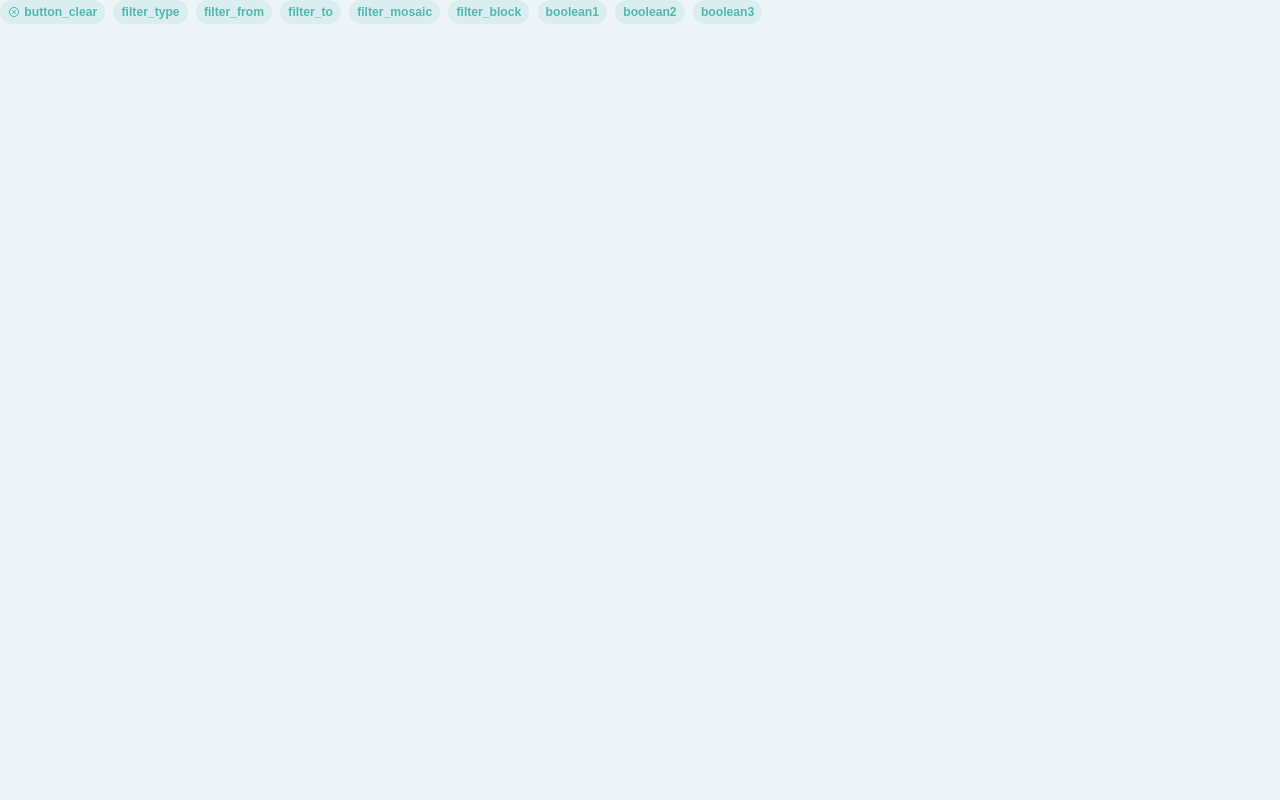
Test case: Filter › filter options › renders account options
Click the button "filter_from" at (234, 12), box x1=196 y1=0 x2=272 y2=24
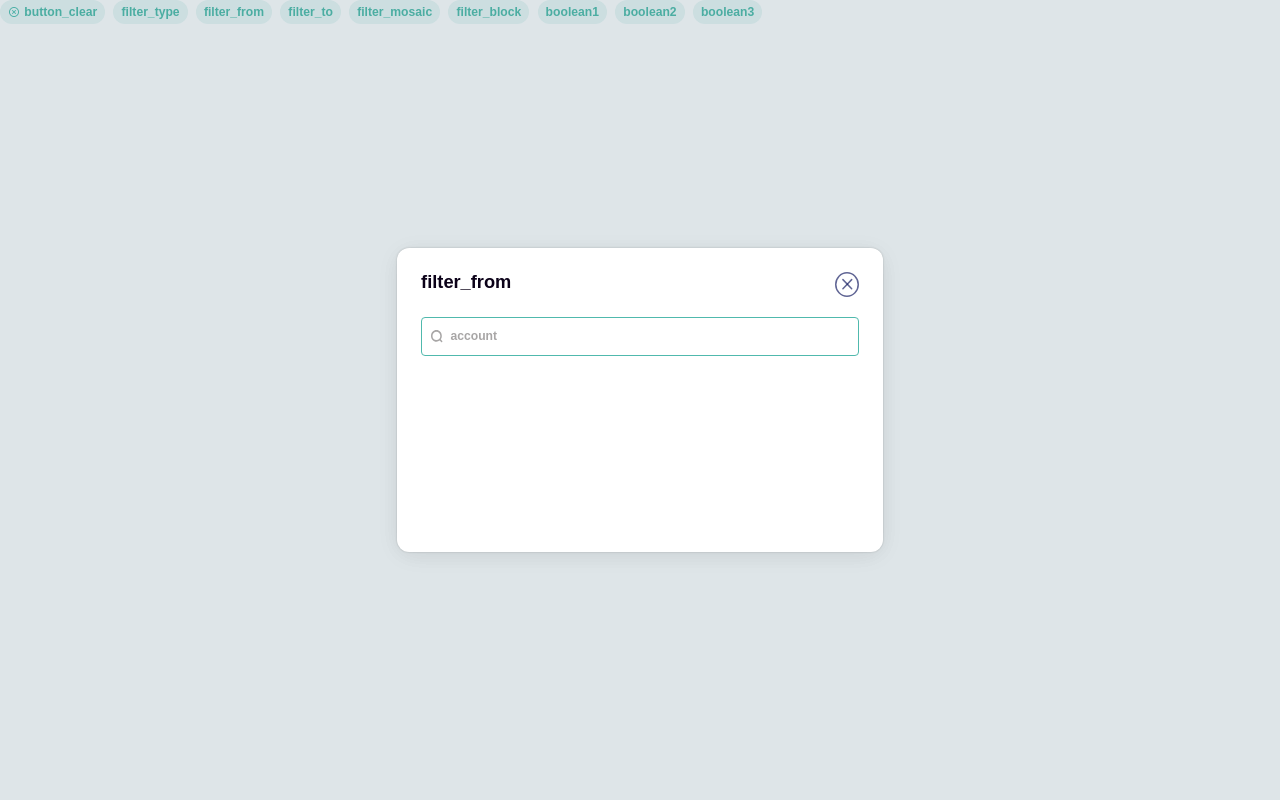
Expected: the dialog is shown
Type "search-text-value" into the search field at (649, 337), box x1=448 y1=328 x2=850 y2=346
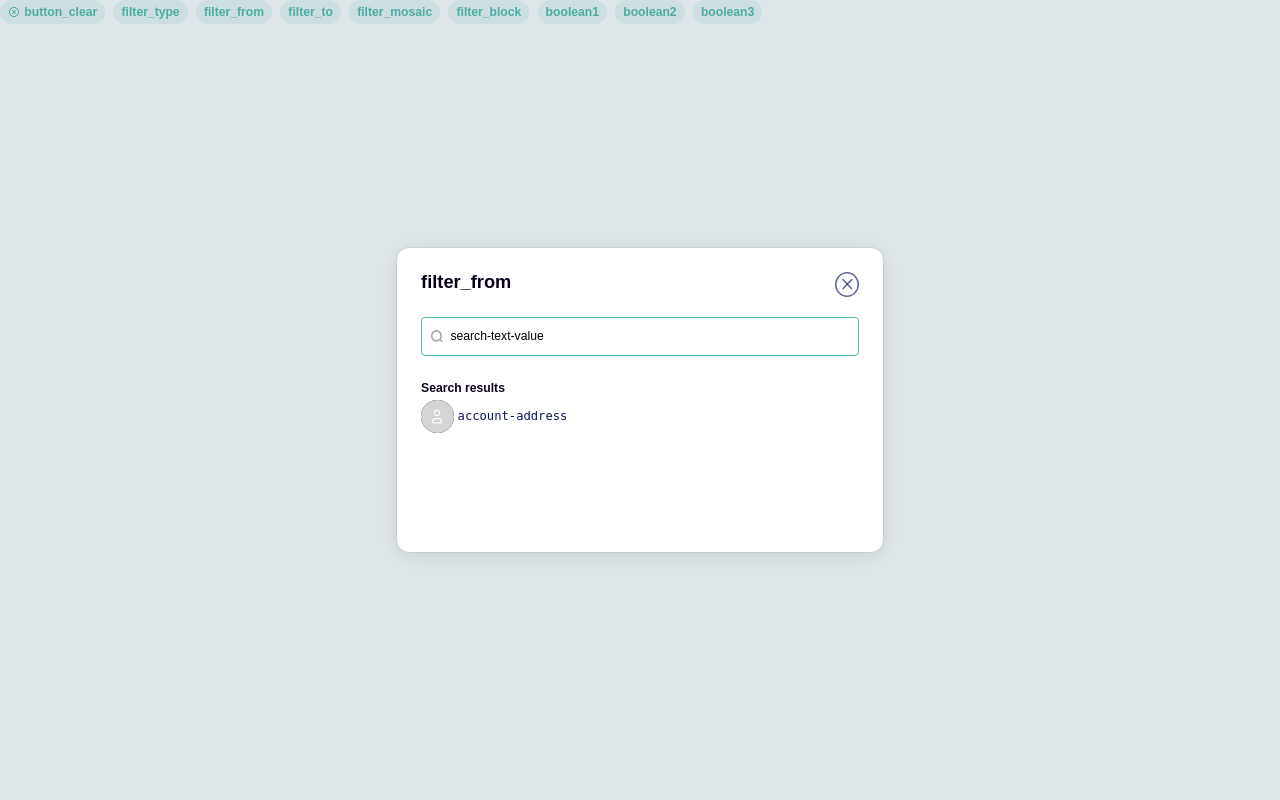
Expected: the link "account-address" is shown
Click the link "account-address" at (512, 416), box x1=458 y1=410 x2=567 y2=424
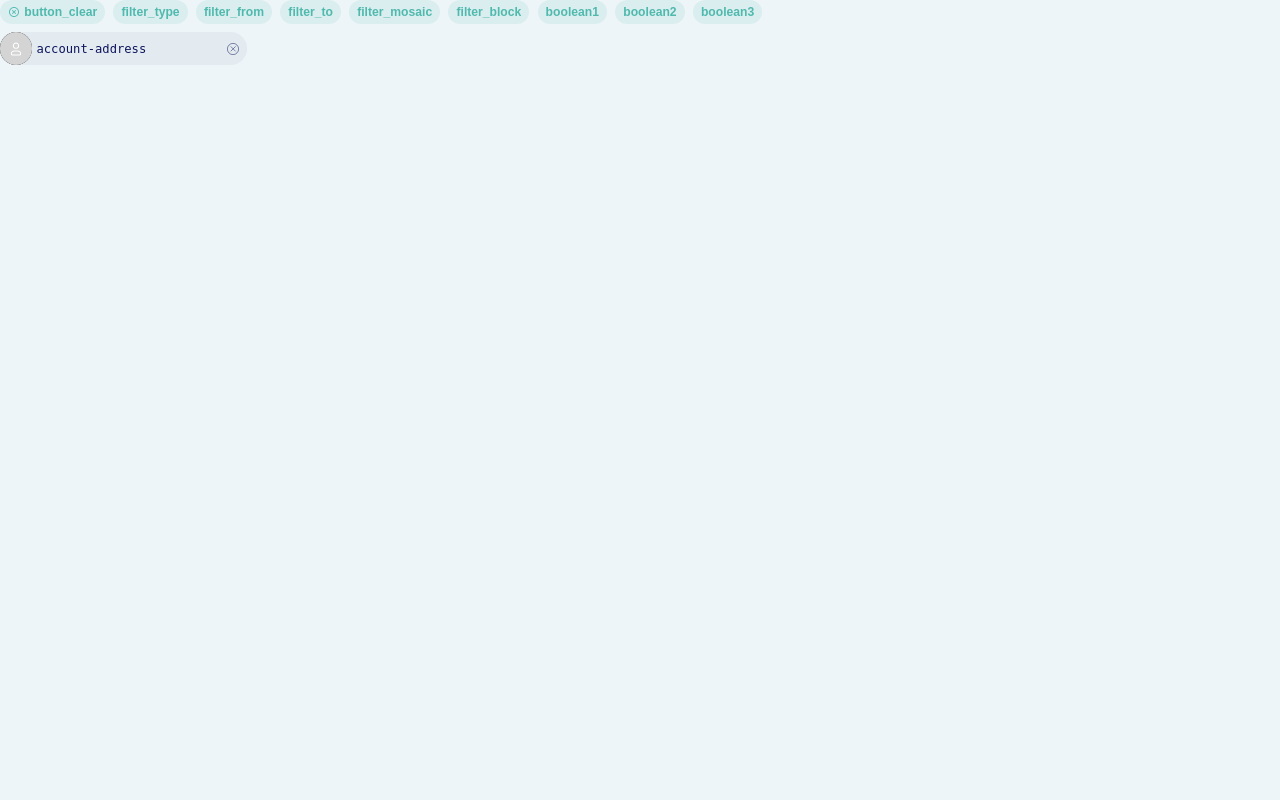
Expected: the link "account-address" is shown, x1=36 y1=42 x2=146 y2=56
Expected: the dialog is gone
